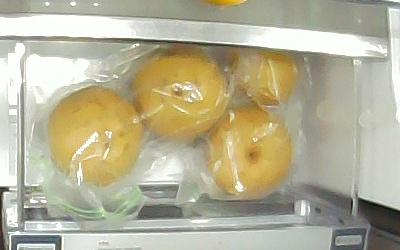pear_vinyl: (47, 86, 143, 187), (134, 47, 227, 144), (210, 105, 293, 201), (227, 44, 295, 106)
